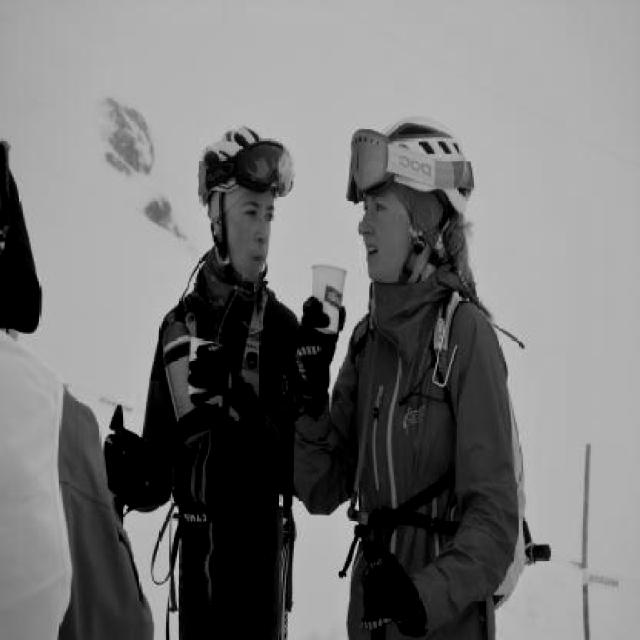face_nomask: (238, 200, 282, 272), (353, 195, 396, 267)
glasses: (224, 134, 299, 200), (341, 121, 396, 202)
hand_glove: (287, 294, 353, 374), (348, 552, 408, 632), (182, 338, 235, 416)
head_helmet: (350, 110, 473, 212), (186, 131, 305, 207)
person: (295, 109, 528, 640), (100, 120, 314, 640)
